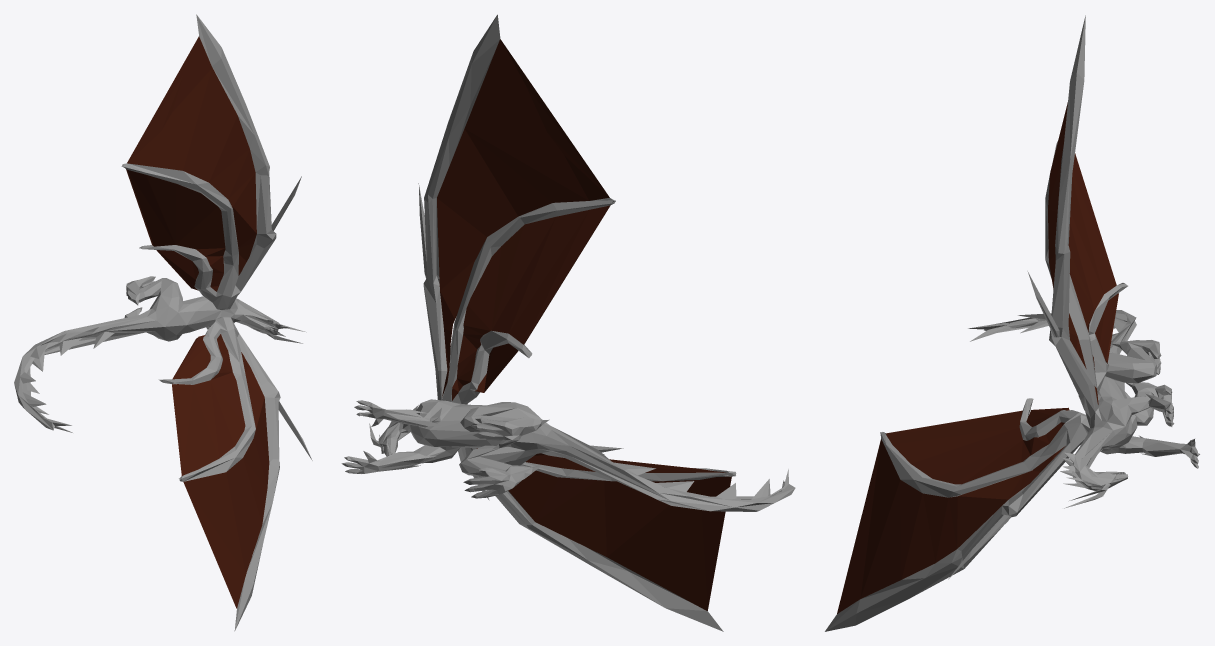
File: Dragon_2.5_For_Animations_000180.obj
3 renders of one model, left to right at view 1: azimuth 30°, elevation 25°; view 2: azimuth 150°, elevation 25°; view 3: azimuth 270°, elevation 25°, orthographic. The views are drawn at different scales.
Parts seen in each view (by area): view 1: Cube_Cube.004; view 2: Cube_Cube.004; view 3: Cube_Cube.004.
Part boxes in pixels (left/top/right/bottom): Cube_Cube.004: left=14, top=14, right=312, bottom=631; Cube_Cube.004: left=341, top=14, right=795, bottom=631; Cube_Cube.004: left=825, top=15, right=1199, bottom=631.
Bounding box in the file's own units: 81.07 × 138 × 71.62.
